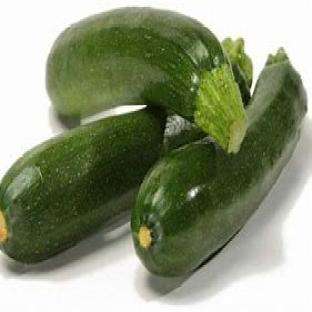Zucchini: (132, 51, 306, 275), (47, 7, 247, 152), (0, 110, 166, 263), (223, 39, 253, 104)
